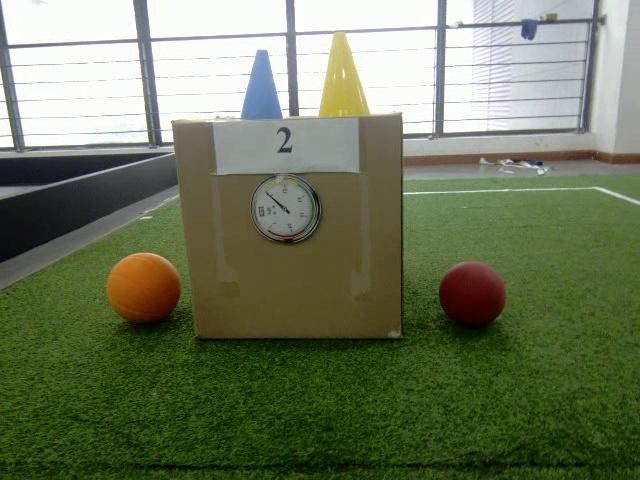2: (275, 126, 297, 154)
Dashboard: (252, 176, 324, 248)
blue_barrel: (240, 49, 283, 121)
orange_ball: (106, 253, 183, 324)
red_ball: (439, 261, 507, 325)
ssi: (257, 203, 267, 220)
yellow_barrel: (319, 29, 369, 118)
